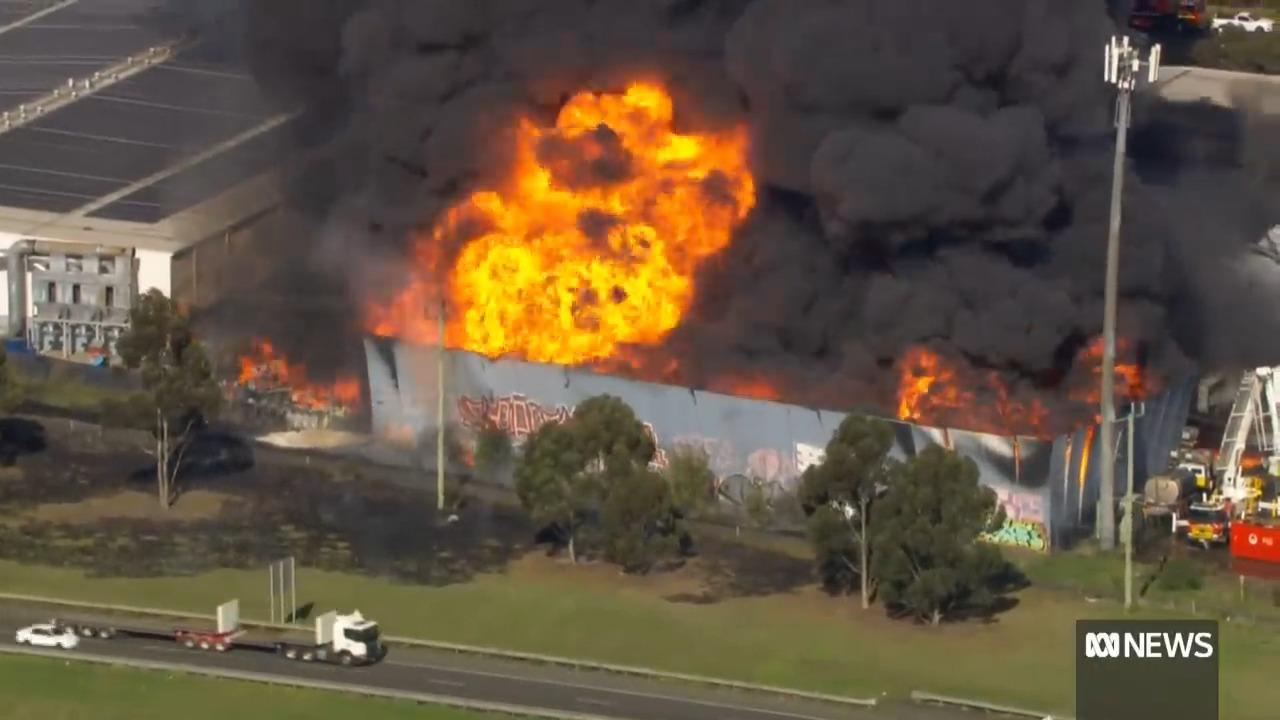fire: (413, 68, 720, 361), (888, 351, 951, 418)
